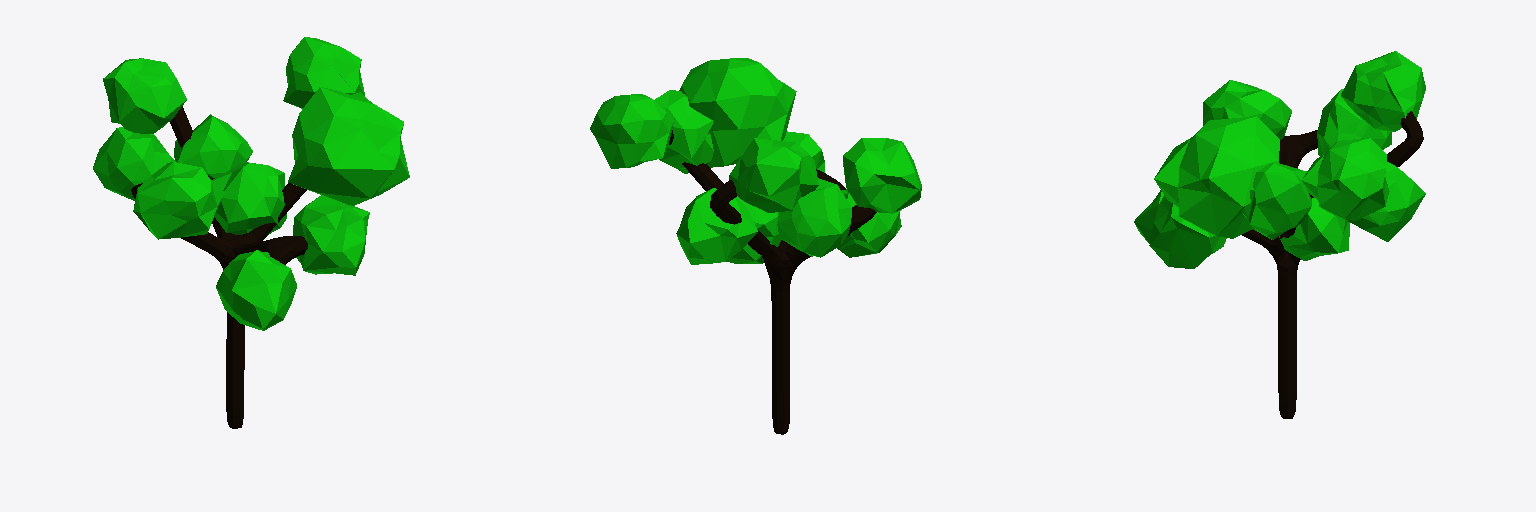
File: tree.obj
3 views of the same model, side by side, from view 1: azimuth 30°, elevation 25°; view 2: azimuth 150°, elevation 25°; view 3: azimuth 270°, elevation 25° (orthographic).
Visible parts, largest first — view 1: Icosphere.001, Plane, Icosphere.006, Icosphere.007, Icosphere, Icosphere.002, Icosphere.004, Icosphere.009, Icosphere.008, Icosphere.003; view 2: Icosphere.001, Plane, Icosphere.007, Icosphere.006, Icosphere.009, Icosphere.008, Icosphere.003, Icosphere.005, Icosphere.002, Icosphere.004, Icosphere; view 3: Icosphere.001, Plane, Icosphere.009, Icosphere.007, Icosphere.005, Icosphere, Icosphere.006, Icosphere.004, Icosphere.003, Icosphere.008, Icosphere.002.
Part boxes in pixels (x1,y1,x2,y2): Icosphere.001: (288,87,409,205); Plane: (131,106,307,428); Icosphere.006: (133,162,224,239); Icosphere.007: (103,58,186,133); Icosphere: (293,195,369,275); Icosphere.002: (216,250,296,330); Icosphere.004: (212,162,286,235); Icosphere.009: (283,37,364,108); Icosphere.008: (93,127,175,200); Icosphere.003: (174,114,252,178); Icosphere.001: (679,58,796,167); Plane: (669,130,876,434); Icosphere.007: (729,138,818,212); Icosphere.006: (843,138,921,213); Icosphere.009: (590,94,674,168); Icosphere.008: (777,178,851,257); Icosphere.003: (676,188,757,264); Icosphere.005: (654,90,713,173); Icosphere.002: (837,189,901,257); Icosphere.004: (726,196,781,263); Icosphere: (783,131,824,172); Icosphere.001: (1154,116,1279,238); Plane: (1242,111,1423,418); Icosphere.009: (1301,138,1389,220); Icosphere.007: (1341,51,1425,131); Icosphere.005: (1242,163,1311,239); Icosphere: (1149,195,1226,268); Icosphere.006: (1203,80,1291,139); Icosphere.004: (1279,198,1349,260); Icosphere.003: (1348,161,1425,241); Icosphere.008: (1317,89,1391,155); Icosphere.002: (1134,190,1163,243).
Bounding box in the file's own units: 7.95 × 9.37 × 7.34.